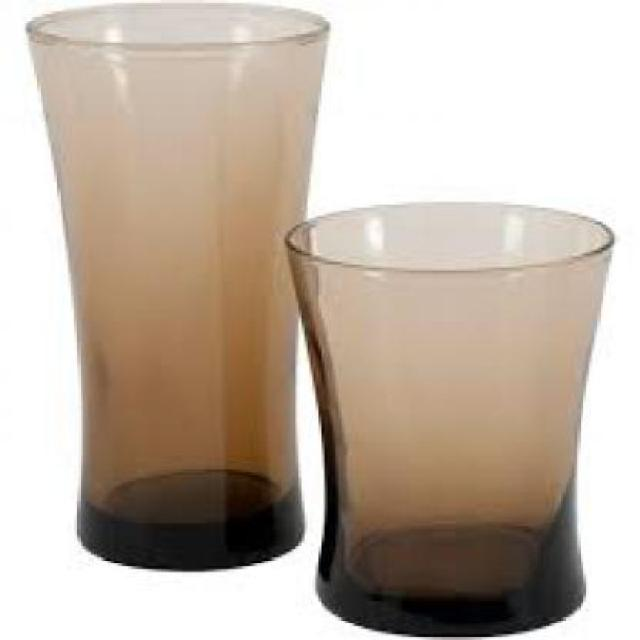kaca: (23, 0, 328, 569), (282, 201, 612, 637)
